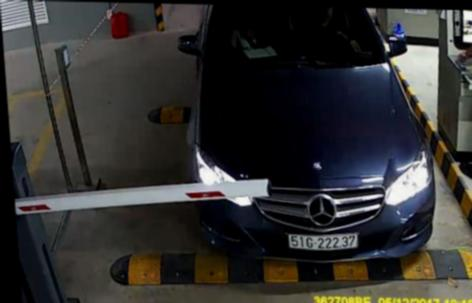License_Plate: (283, 222, 363, 252)
